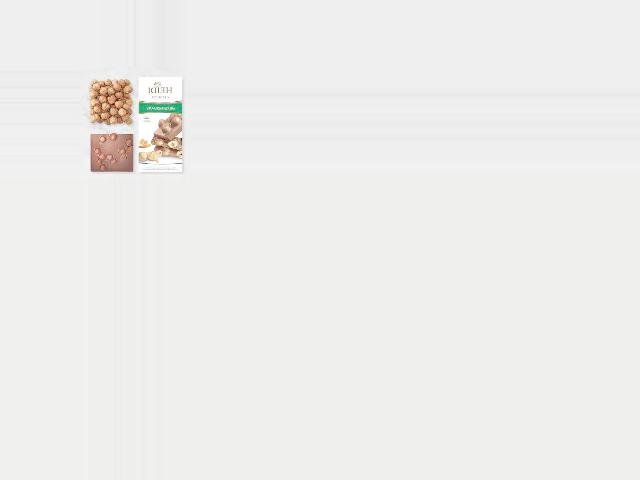chocolate: (85, 133, 135, 174)
